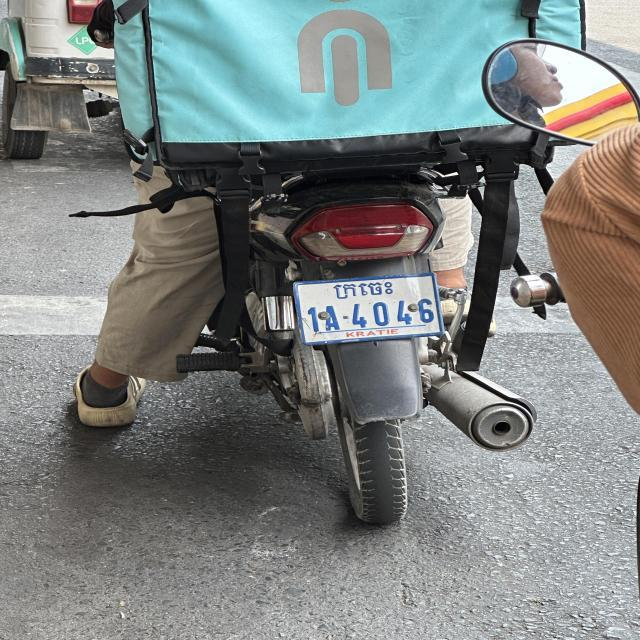Kratie: (332, 281, 396, 300)
